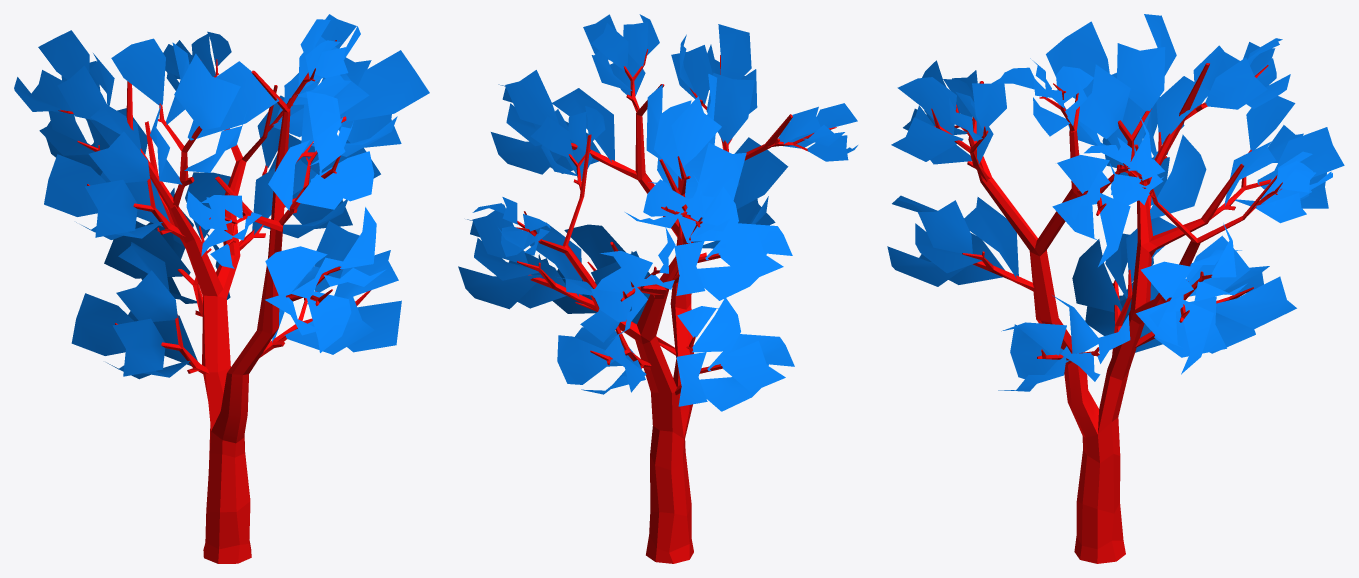
Rendered from SM_Tree_Generic_Dead_01.glb.
The picture shows the model from 3 angles, left to right: view 1: azimuth 30°, elevation 25°; view 2: azimuth 150°, elevation 25°; view 3: azimuth 270°, elevation 25°; orthographic projection. The views are drawn at different scales.
Parts seen in each view (by area): view 1: SM_Tree_Generic_Dead_01; view 2: SM_Tree_Generic_Dead_01; view 3: SM_Tree_Generic_Dead_01.
Boxes of the visible parts, box(x1,y1,x2,y2) form: SM_Tree_Generic_Dead_01: box(14, 14, 429, 563); SM_Tree_Generic_Dead_01: box(458, 14, 857, 563); SM_Tree_Generic_Dead_01: box(887, 14, 1344, 563).
Size of the model in its own units: 3.56 by 5.33 by 4.11.
